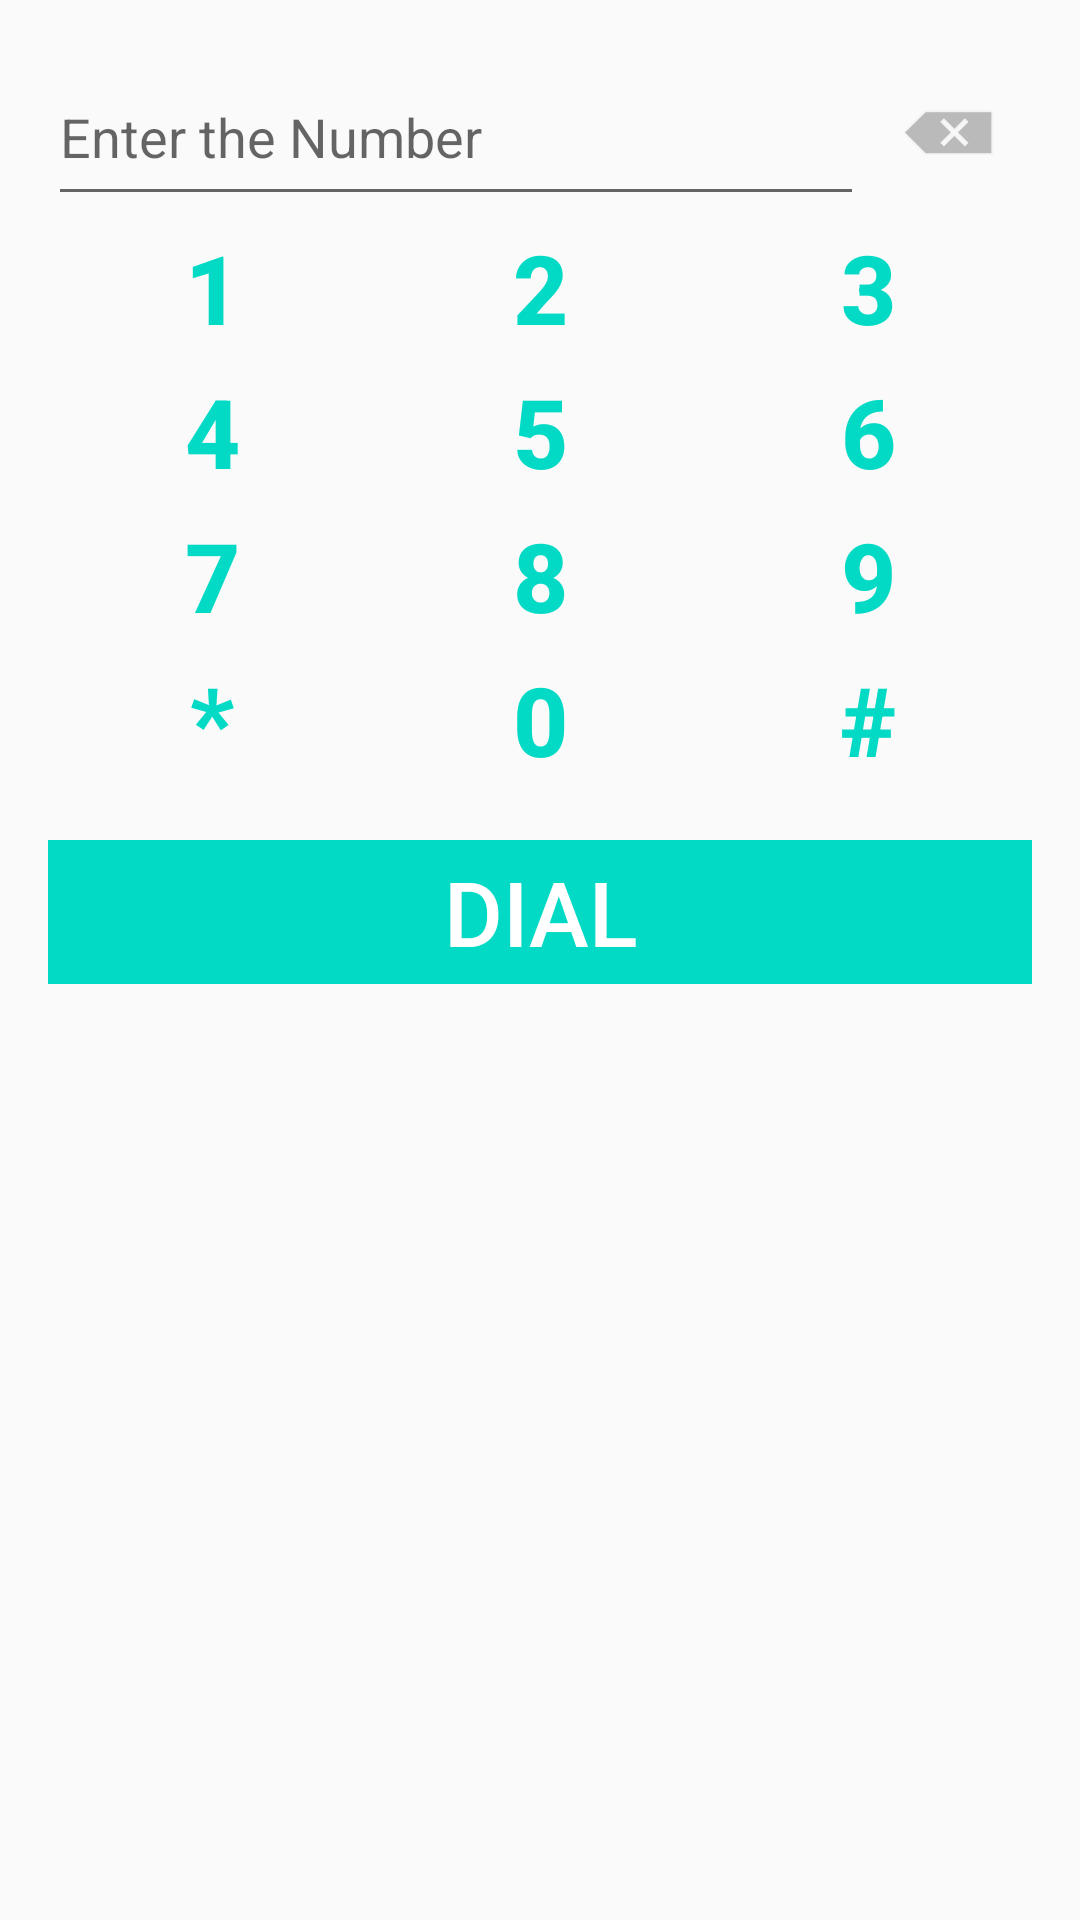

Icons on this 1080px×1920px Android screen, each with its box as (x1, y1, x2, y2):
Delete: (905, 112, 992, 153)
